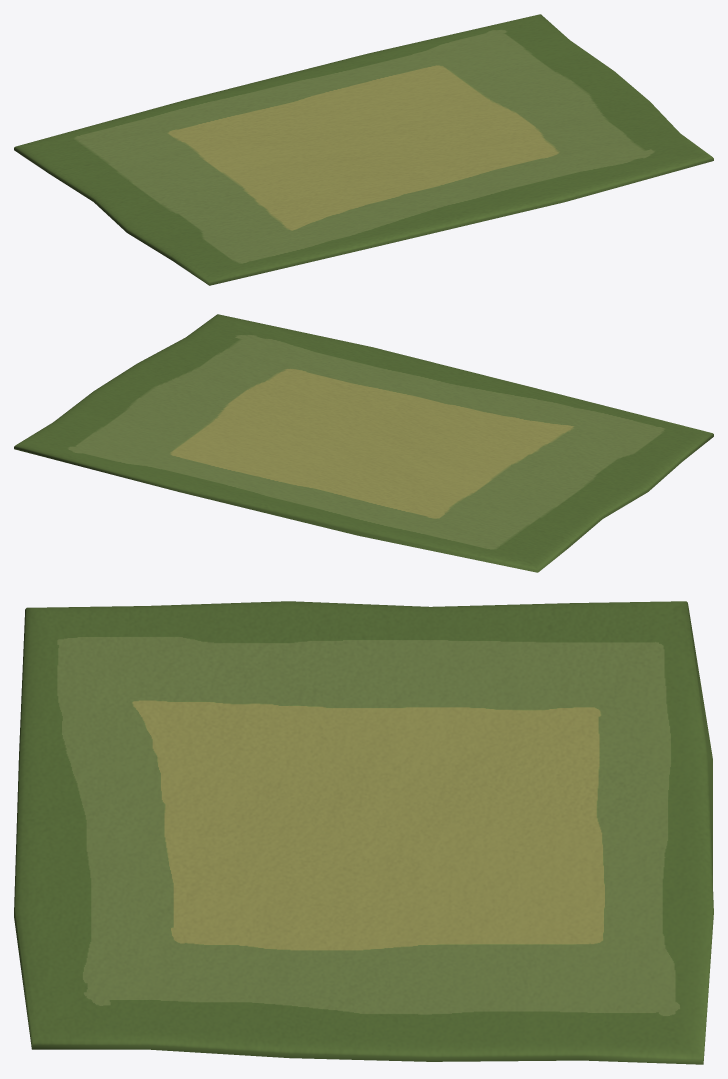
File: Rug.fbx
3 views of the same model, one above another, from view 1: azimuth 30°, elevation 25°; view 2: azimuth 150°, elevation 25°; view 3: azimuth 270°, elevation 25° (orthographic). The views are drawn at different scales.
Parts seen in each view (by area): view 1: Box002; view 2: Box002; view 3: Box002.
Part boxes in pixels (bbox=[...]): Box002: bbox=[14, 14, 713, 285]; Box002: bbox=[14, 314, 713, 572]; Box002: bbox=[14, 601, 713, 1064].
Bounding box in the file's own units: 106 × 1 × 68.46.
2 materials, 2 textured.
